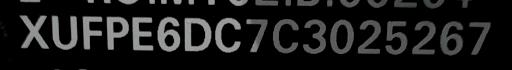letter: (17, 12, 51, 50), (212, 15, 244, 53), (50, 13, 80, 52), (182, 15, 212, 53), (270, 16, 300, 54), (300, 17, 328, 55), (410, 18, 438, 56), (327, 17, 355, 53), (465, 19, 493, 55), (104, 14, 130, 52), (129, 14, 155, 52), (243, 15, 269, 53), (384, 18, 410, 56), (438, 19, 464, 57), (78, 14, 104, 51), (155, 15, 181, 52), (356, 17, 382, 54)
